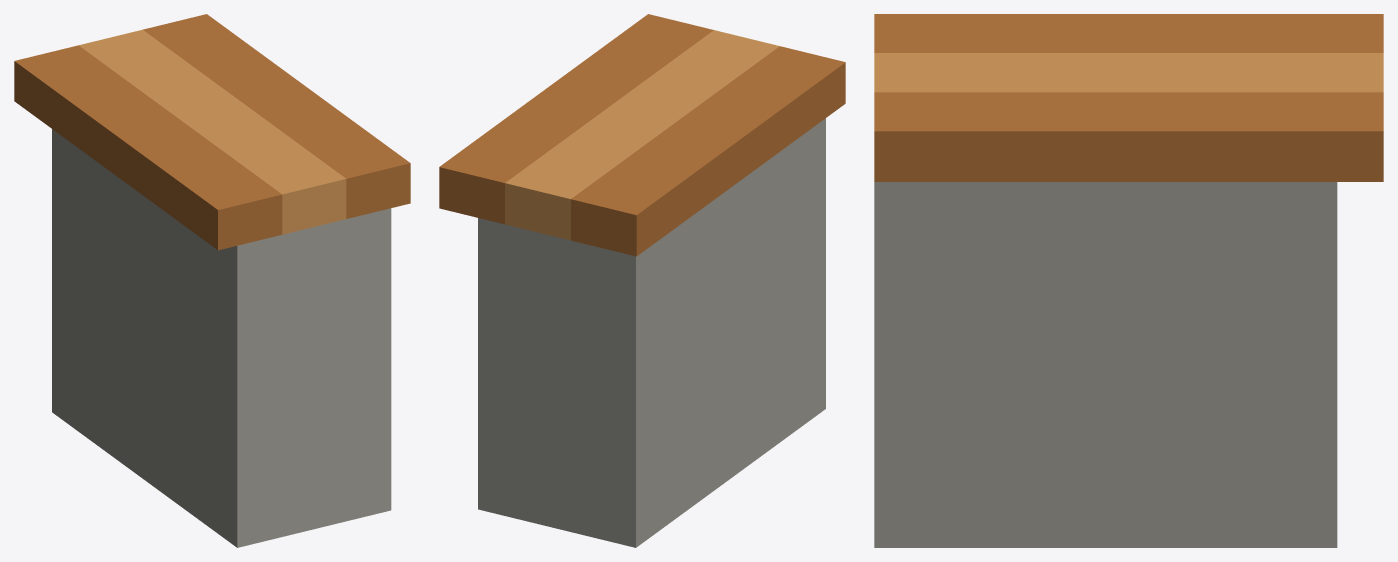
The model's file is perch_seat.glb.
3 renders of one model, left to right at view 1: azimuth 30°, elevation 25°; view 2: azimuth 150°, elevation 25°; view 3: azimuth 270°, elevation 25°, orthographic. The views are drawn at different scales.
Visible parts, largest first — view 1: seat; view 2: seat; view 3: seat.
Boxes of the visible parts, x1=… form: seat: x1=14, y1=14, x2=410, y2=547; seat: x1=439, y1=14, x2=845, y2=547; seat: x1=874, y1=14, x2=1383, y2=547.
Size of the model in its own units: 0.3 by 0.51 by 0.55.
